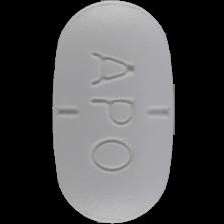60505-0083: (0, 0, 224, 224)
